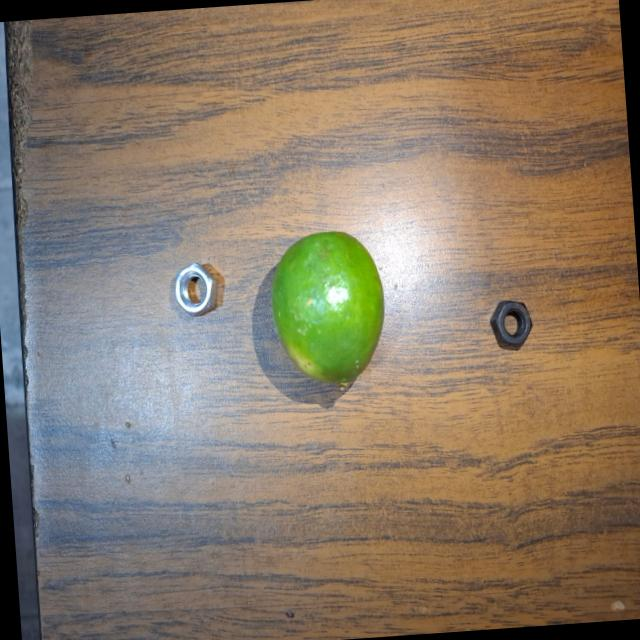limon: (265, 225, 392, 396)
milimetrico: (488, 290, 539, 356)
tuerca: (170, 252, 227, 320)
